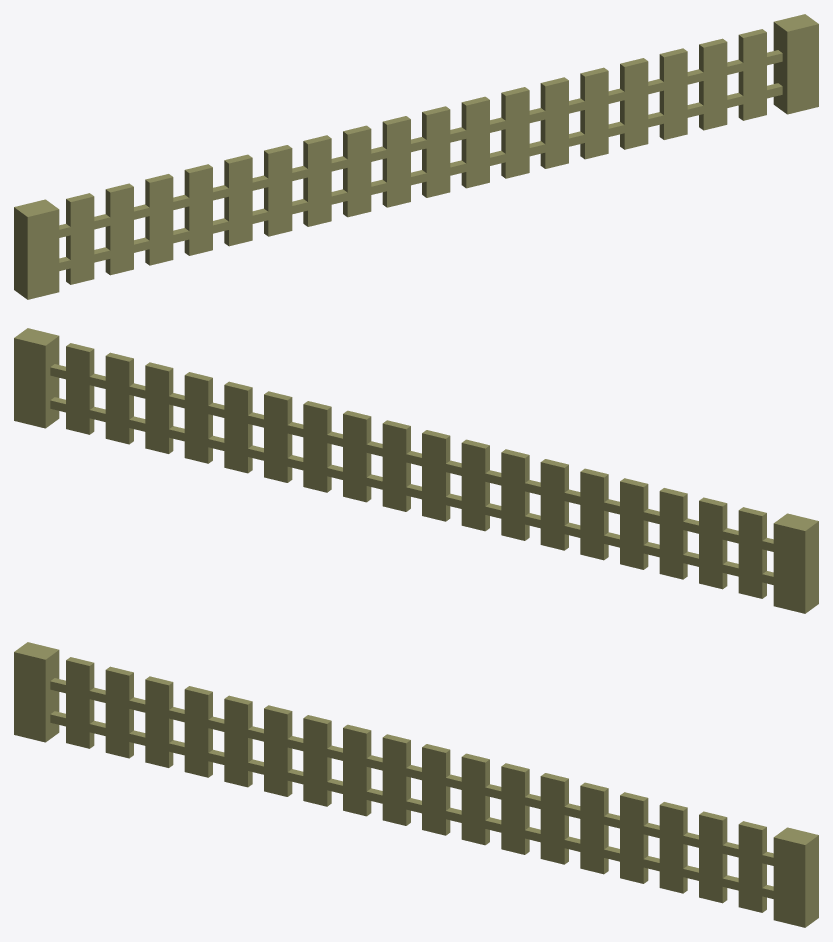
Rendered from fence_long_100.dae.
The picture shows the model from 3 angles, top to bottom: view 1: azimuth 30°, elevation 25°; view 2: azimuth 150°, elevation 25°; view 3: azimuth 330°, elevation 25°; orthographic projection.
Visible parts, largest first — view 1: fence_long_100; view 2: fence_long_100; view 3: fence_long_100.
Part boxes in pixels (x1=…): fence_long_100: x1=14, y1=14, x2=818, y2=299; fence_long_100: x1=14, y1=328, x2=818, y2=613; fence_long_100: x1=14, y1=642, x2=818, y2=927.
Size of the model in its own units: 10 by 0.3 by 1.
Materials: 1 (1 with a texture image).
